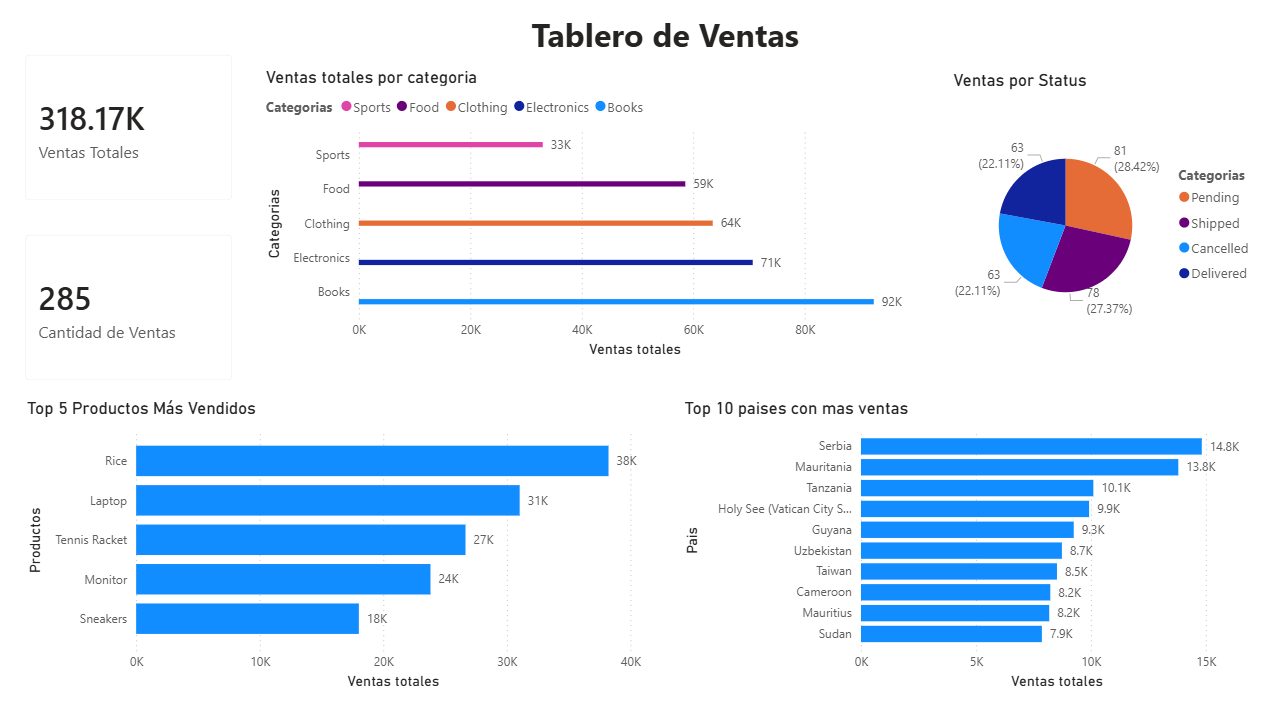

The page's visual inventory and layout, read from the dashboard file:
{"tool":"powerbi","page":{"name":"Tablero de Ventas","canvas":[1280,720],"ordinal":1},"visuals":[{"type":"textbox","box":[150,420,300,300],"z":0},{"type":"textbox","box":[450.3,13.7,439.1,57.2],"z":1000},{"type":"cardVisual","fields":{"Data":["Sum(salesdatawarehouse factsales.TotalPrice)"]},"box":[16.2,43.5,240.1,179.1],"z":2000},{"type":"cardVisual","fields":{"Data":["CountNonNull(salesdatawarehouse factsales.SalesKey)"]},"box":[16.2,222.7,240.1,179.1],"z":3000},{"type":"clusteredBarChart","title":"Ventas totales por categoria","fields":{"Category":["salesdatawarehouse dimproduct.Category"],"Series":["salesdatawarehouse dimproduct.Category"],"Y":["Sum(salesdatawarehouse factsales.TotalPrice)"]},"box":[267.8,72.2,662.5,293.9],"z":4000},{"type":"clusteredBarChart","title":"Top 5 Productos Más Vendidos","fields":{"Category":["salesdatawarehouse dimproduct.ProductName"],"Y":["Sum(salesdatawarehouse factsales.TotalPrice)"]},"box":[29.9,401.8,640.6,294.8],"z":5000},{"type":"pieChart","title":"Ventas por Status","fields":{"Category":["salesdatawarehouse dimstatus.StatusName"],"Y":["CountNonNull(salesdatawarehouse factsales.SalesKey)"]},"box":[951.5,76,318.8,290.2],"z":6000},{"type":"barChart","title":"Top 10 paises con mas ventas","fields":{"Category":["salesdatawarehouse dimcustomer.Country"],"Y":["Sum(salesdatawarehouse factsales.TotalPrice)"]},"box":[684.2,401.8,585.9,294.8],"z":7000}]}

Visuals, with their boxes in screenshot pixels (x1, y1, x2, y2), scaled from the page's 1280x720 canvas onto the 1262x712 screenshot:
textbox: l=148, t=415, r=444, b=711
textbox: l=444, t=14, r=877, b=70
cardVisual - Sum(salesdatawarehouse factsales.TotalPrice): l=16, t=43, r=253, b=220
cardVisual - CountNonNull(salesdatawarehouse factsales.SalesKey): l=16, t=220, r=253, b=397
"Ventas totales por categoria" clusteredBarChart: l=264, t=71, r=917, b=362
"Top 5 Productos Más Vendidos" clusteredBarChart: l=29, t=397, r=661, b=689
"Ventas por Status" pieChart: l=938, t=75, r=1252, b=362
"Top 10 paises con mas ventas" barChart: l=675, t=397, r=1252, b=689
